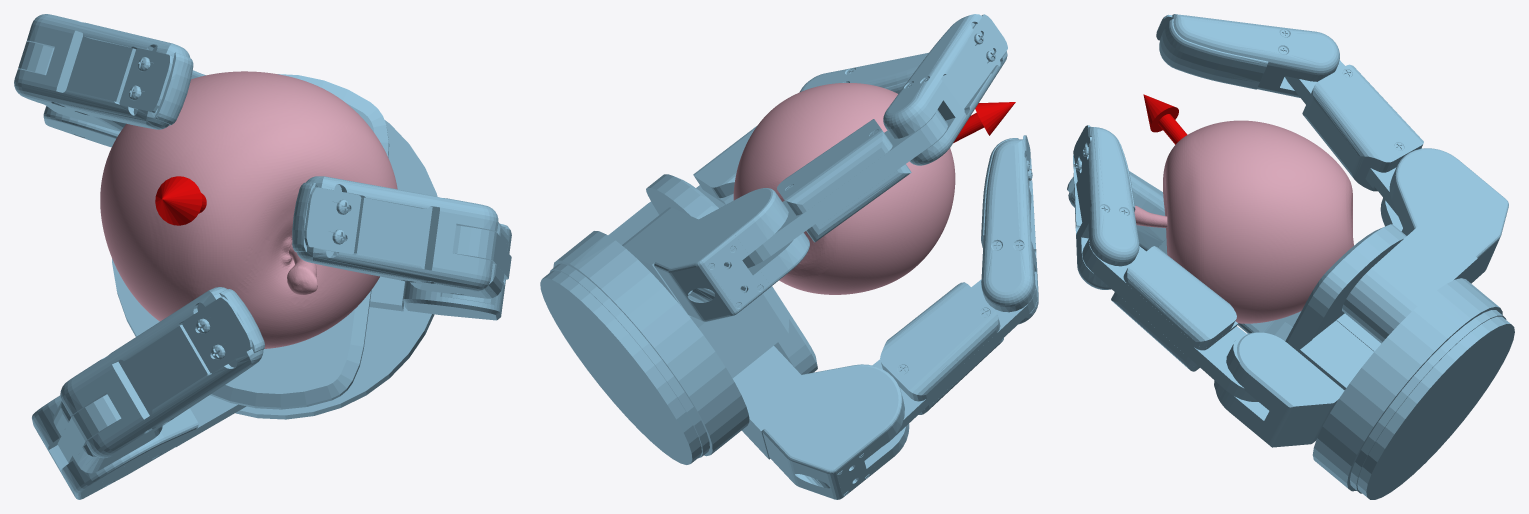
3 views of the same model, side by side, from view 1: azimuth 30°, elevation 25°; view 2: azimuth 150°, elevation 25°; view 3: azimuth 270°, elevation 25° (orthographic). The views are drawn at different scales.
Visible parts, largest first — view 1: world, apple.stl; view 2: world, apple.stl; view 3: world, apple.stl.
Part boxes in pixels (left/top/right/bottom): world: left=14, top=14, right=511, bottom=499; apple.stl: left=100, top=71, right=397, bottom=348; world: left=540, top=14, right=1038, bottom=499; apple.stl: left=733, top=83, right=955, bottom=294; world: left=1067, top=14, right=1514, bottom=499; apple.stl: left=1134, top=120, right=1353, bottom=323.
Size of the model in its own units: 0.1574 by 0.1658 by 0.1684.
